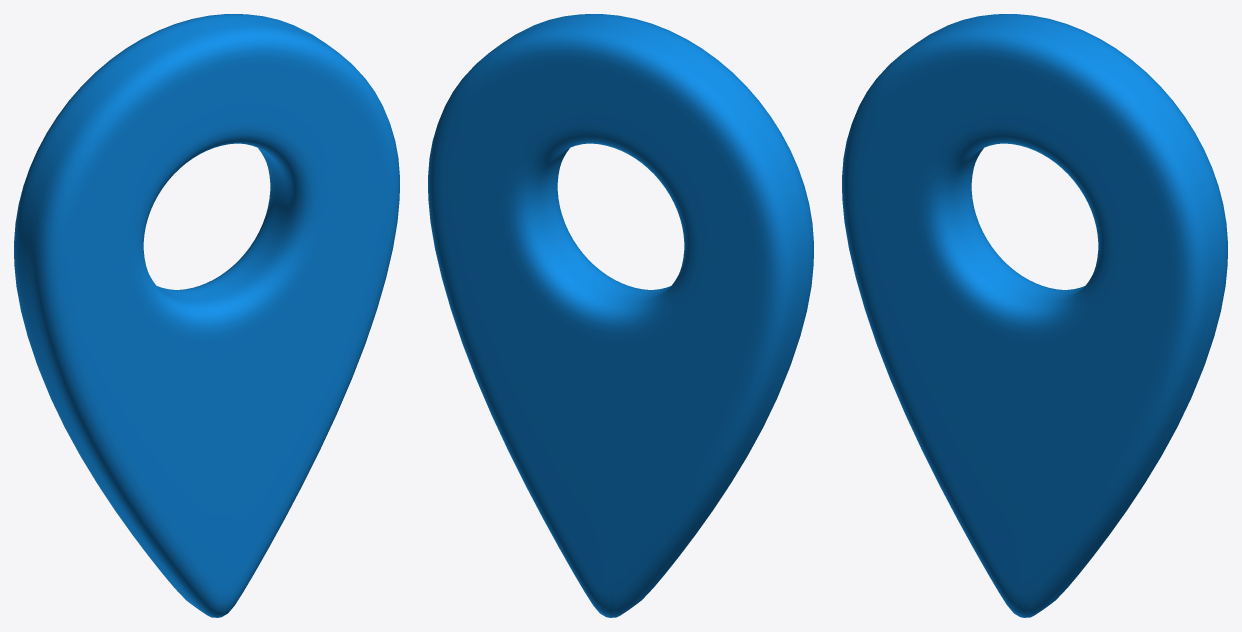
File: ring.glb
3 renders of one model, left to right at view 1: azimuth 30°, elevation 25°; view 2: azimuth 150°, elevation 25°; view 3: azimuth 330°, elevation 25°, orthographic.
Parts seen in each view (by area): view 1: Cylinder.004; view 2: Cylinder.004; view 3: Cylinder.004.
Part boxes in pixels (<box>): Cylinder.004: <box>14,14,399,617</box>; Cylinder.004: <box>428,14,813,617</box>; Cylinder.004: <box>842,14,1227,617</box>.
Size of the model in its own units: 2.94 by 4.52 by 0.5368.
